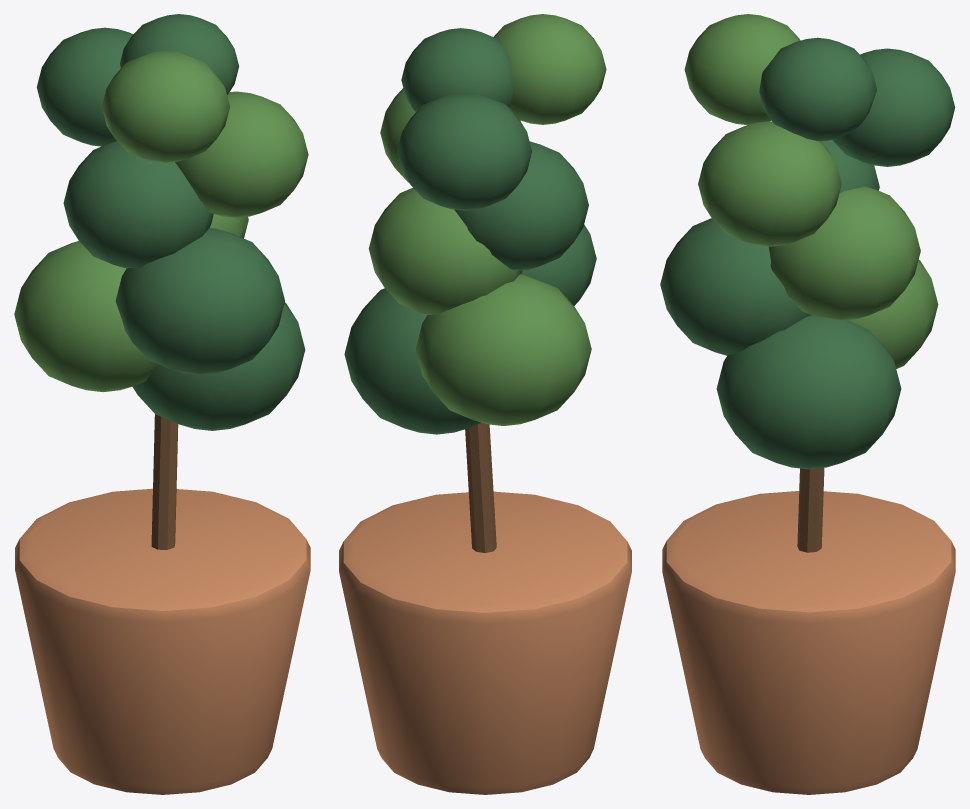
Rendered from plant_large.glb.
3 renders of one model, left to right at view 1: azimuth 30°, elevation 25°; view 2: azimuth 150°, elevation 25°; view 3: azimuth 270°, elevation 25°, orthographic.
Parts seen in each view (by area): view 1: FURN-plant_large; view 2: FURN-plant_large; view 3: FURN-plant_large.
Part boxes in pixels (bbox=[...]): FURN-plant_large: bbox=[14, 14, 310, 794]; FURN-plant_large: bbox=[339, 14, 631, 794]; FURN-plant_large: bbox=[660, 14, 955, 794].
Size of the model in its own units: 0.6 by 1.6 by 0.5949.
